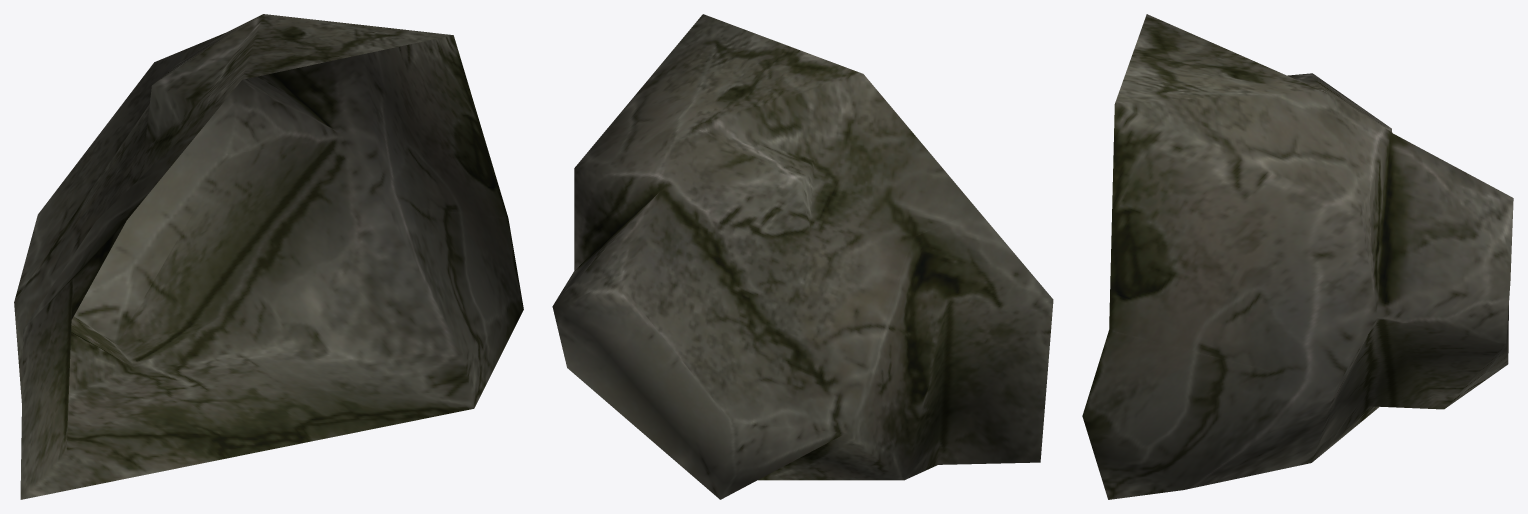
Rendered from AEP_Rock_04_Part_04.fbx.
3 renders of one model, left to right at view 1: azimuth 30°, elevation 25°; view 2: azimuth 150°, elevation 25°; view 3: azimuth 270°, elevation 25°, orthographic. The views are drawn at different scales.
Parts seen in each view (by area): view 1: AEP_Rock_04_Part_04; view 2: AEP_Rock_04_Part_04; view 3: AEP_Rock_04_Part_04.
Boxes of the visible parts, x1,y1,x2,y2 form: AEP_Rock_04_Part_04: (14,14,523,499); AEP_Rock_04_Part_04: (552,14,1053,499); AEP_Rock_04_Part_04: (1082,14,1513,499).
Bounding box in the file's own units: 1.94 × 1.53 × 1.51.
